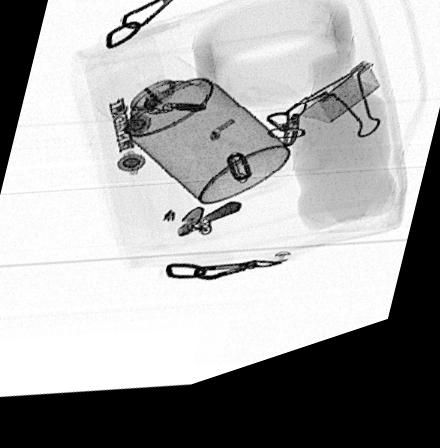Sprayer: (93, 62, 292, 218)
